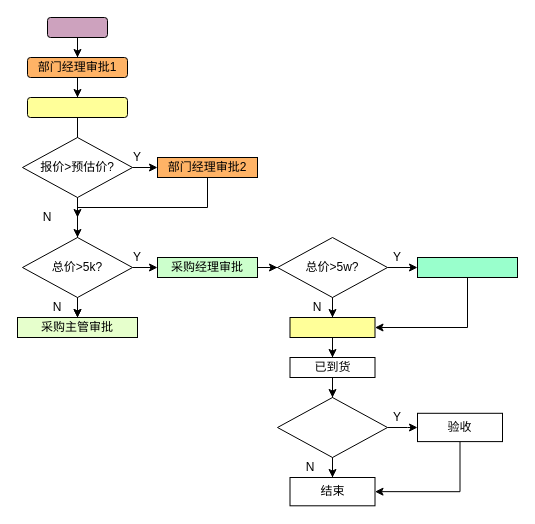
Image size: 535x524. Some labels were removed from this diagram. Each missing label, with the centre of its shape:
"GM审批" belongs at [467,267].
"填单" belongs at [77,27].
"是否需要验收？" belongs at [332,427].
"采购1【报价】" belongs at [77,107].
"采购进行中" belongs at [332,327].
